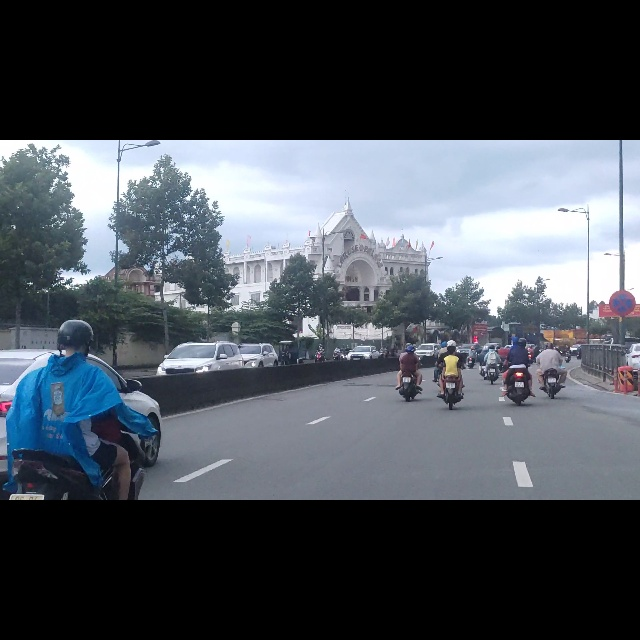bien_cam: (609, 267, 636, 312)
